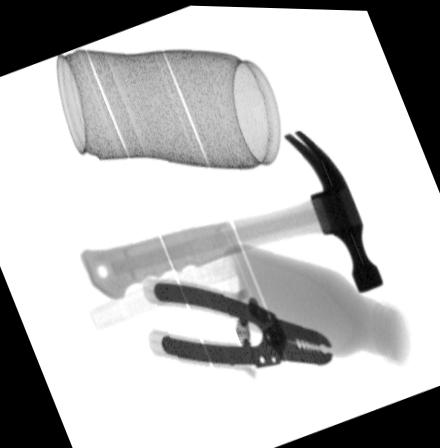Hammer: (77, 128, 384, 302)
Pliers: (143, 274, 332, 378)
